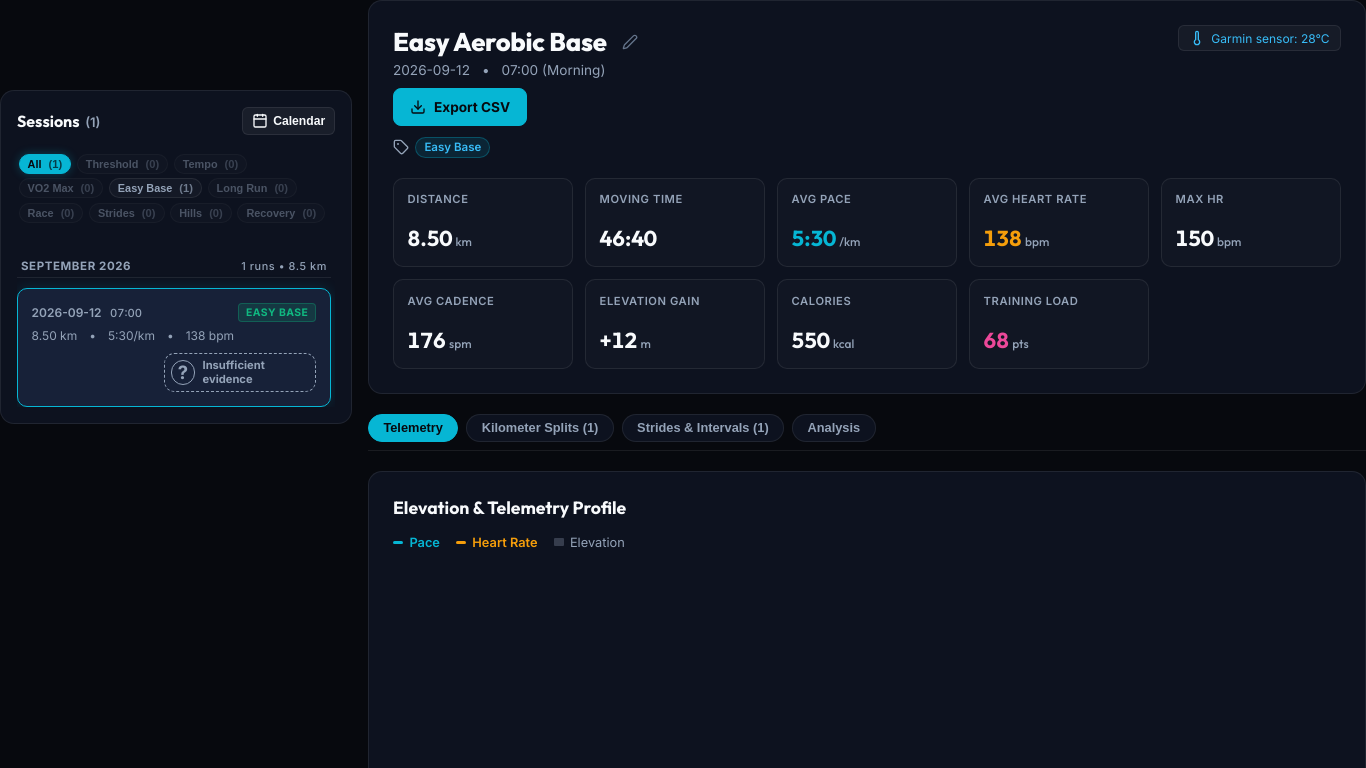
Test: BrowseView User Flow & Navigation Tests › navigates through subtabs: Strides & Intervals, then Analysis
Check: the heading "Easy Aerobic Base" is shown, box [393,25,607,58]
// Switch to Strides subtab
Step 1. Click the button "Strides & Intervals (1)" → (703, 428), box [622,414,784,442]
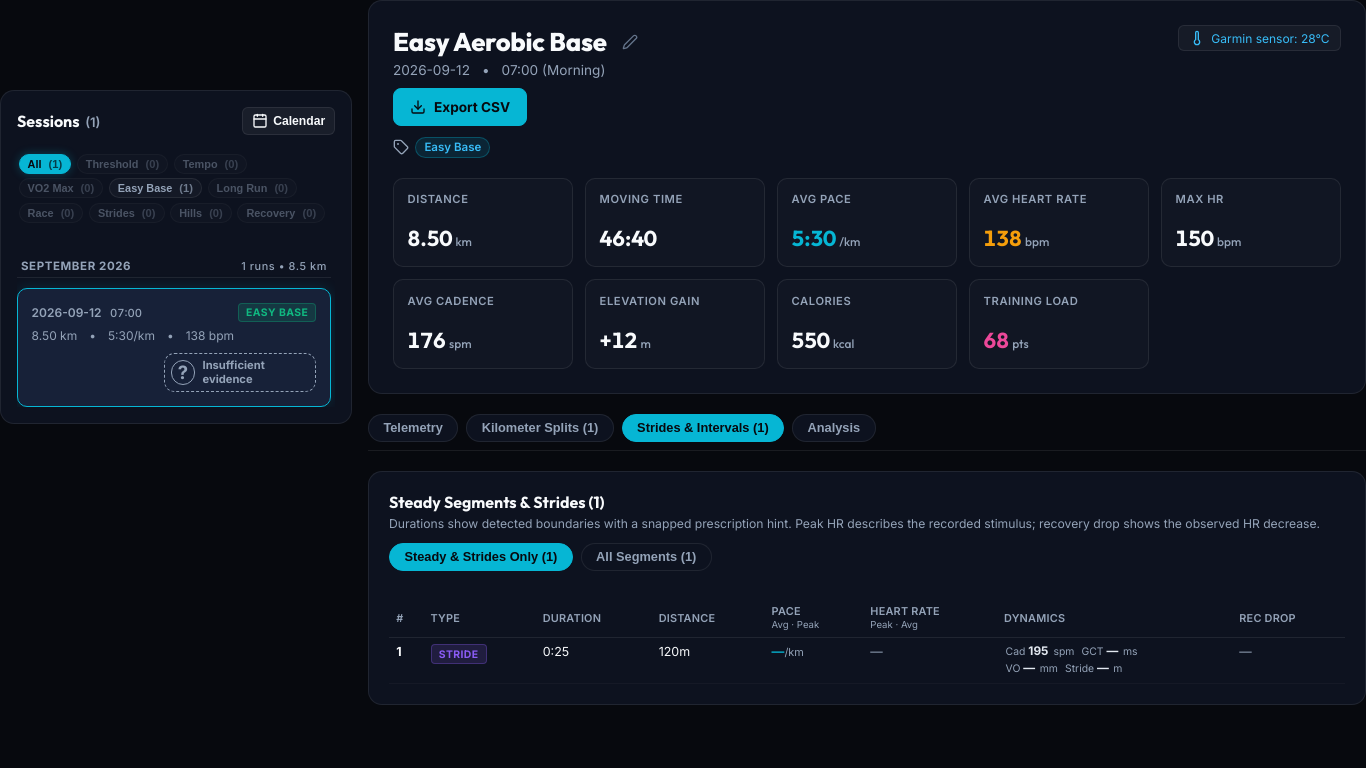
Check: the text "snapped prescription hint" is shown, box [389,516,1320,531]
Check: the text "195" is shown, box [1028,644,1048,658]
// Switch to the Analysis subtab
Step 2. Click the button "Analysis" → (834, 428), box [792,414,876,442]
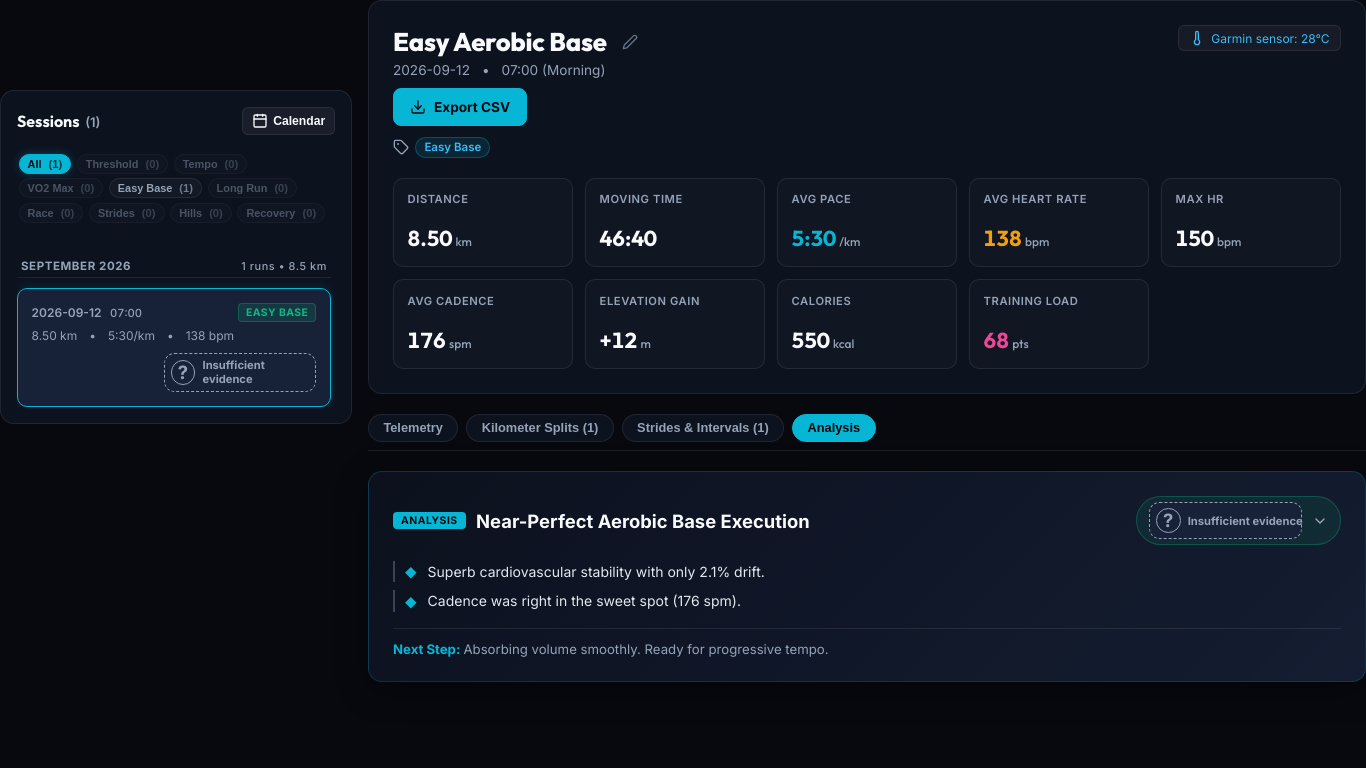
Check: the heading "Near-Perfect Aerobic Base Execution" is shown, box [476,510,810,532]
Check: the text "Superb cardiovascular stability with only 2.1% drift." is shown, box [428,563,765,580]
Check: the text "Ready for progressive tempo" is shown, box [464,641,829,657]
